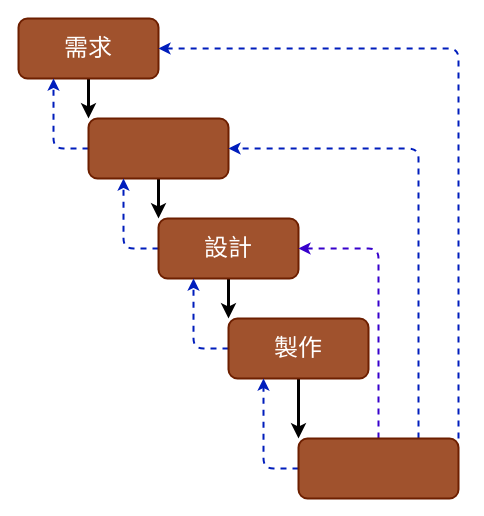
The diagram is 484 pixels wide and 516 high, and some of its shapes have lost their labels. Here are the shapes that lost their labels. From the top down, the centre of each, then its label:
point (158, 148): 分析
point (378, 468): 維護
